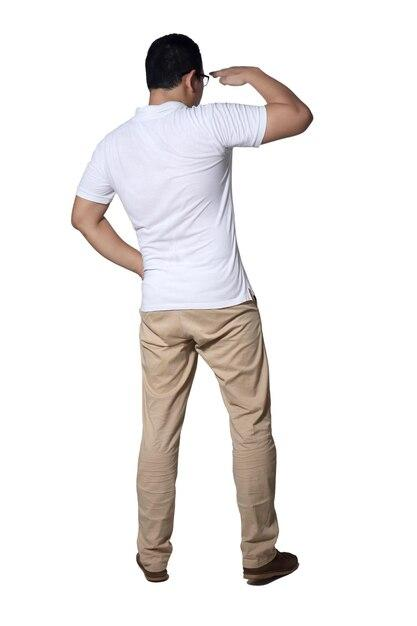Human: (47, 31, 354, 595)
